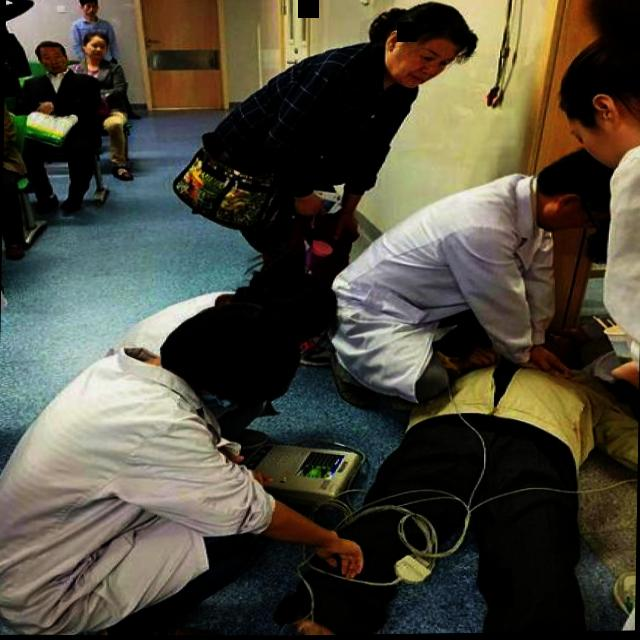Fall-Detected: (307, 300, 640, 636)
